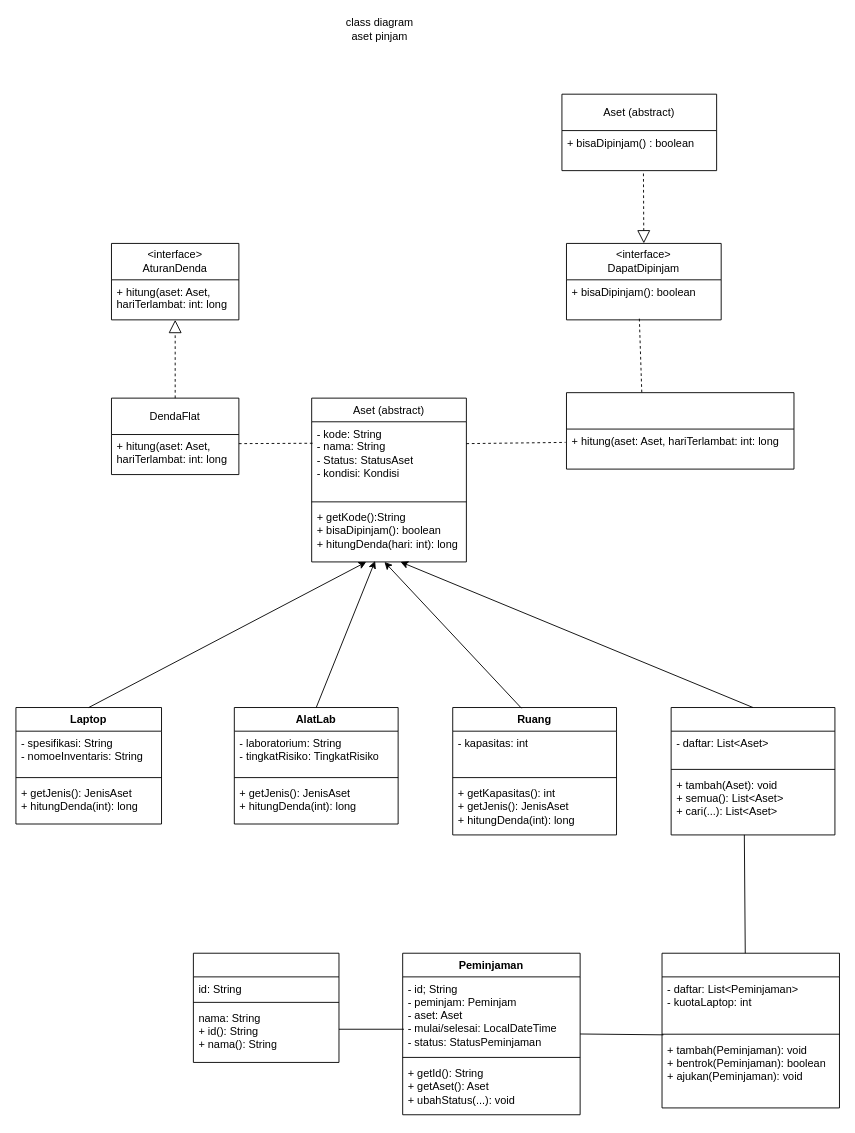
Image size: 855x1133. Some labels were removed from this diagram. Here are the shapes that lost their labels. From the top down, the box of each, then its label:
(566, 392, 794, 469): DendaProgresif
(670, 707, 835, 835): KatalogAset
(192, 952, 339, 1062): Peminjam
(661, 952, 839, 1108): JadwalPeminjaman
